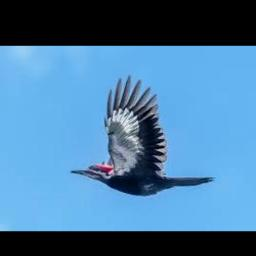Woodpecker: (70, 75, 216, 196)
